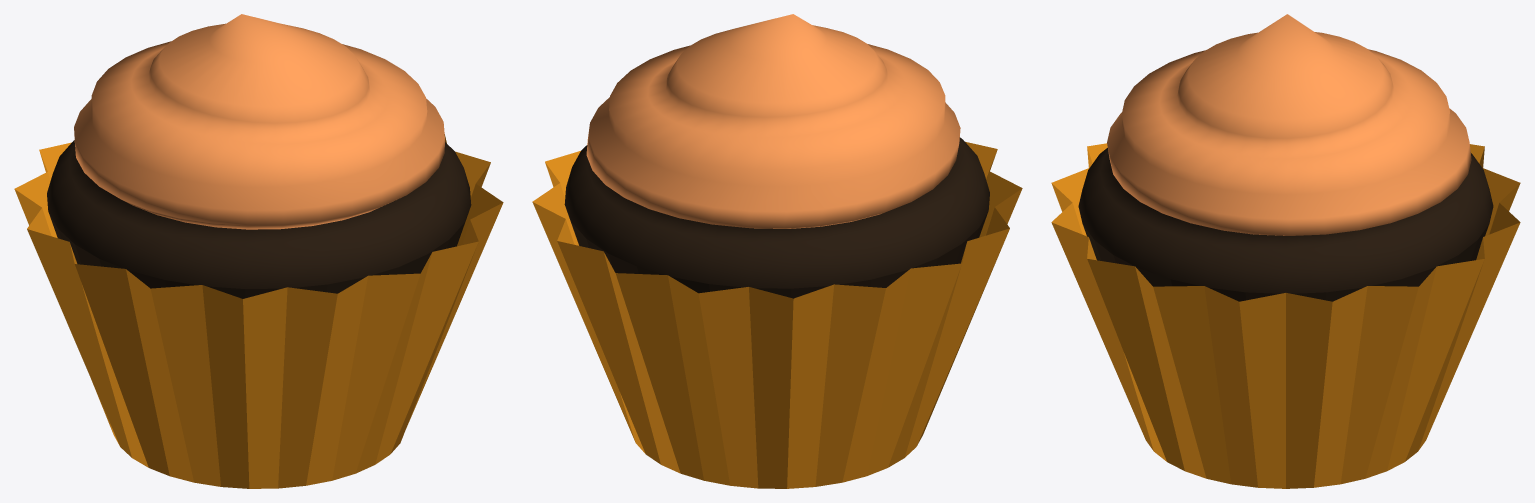
Rendered from cupcake.fbx.
3 views of the same model, side by side, from view 1: azimuth 30°, elevation 25°; view 2: azimuth 150°, elevation 25°; view 3: azimuth 270°, elevation 25° (orthographic). The views are drawn at different scales.
Visible parts, largest first — view 1: Circle; view 2: Circle; view 3: Circle.
Boxes of the visible parts, box(x1,y1,x2,y2) form: Circle: box(14, 14, 503, 488); Circle: box(532, 14, 1022, 488); Circle: box(1051, 14, 1520, 488).
Size of the model in its own units: 220 by 210 by 220.
